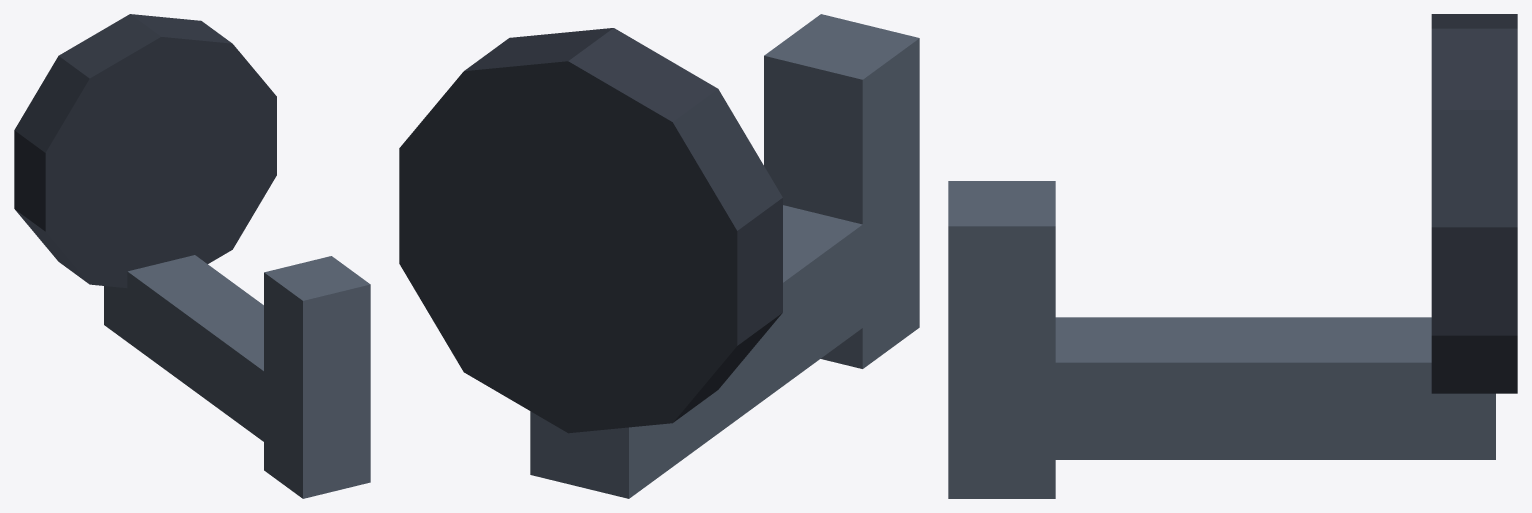
The model's file is rail_bracket.glb.
3 views of the same model, side by side, from view 1: azimuth 30°, elevation 25°; view 2: azimuth 150°, elevation 25°; view 3: azimuth 270°, elevation 25° (orthographic). The views are drawn at different scales.
Visible parts, largest first — view 1: rail_bracket; view 2: rail_bracket; view 3: rail_bracket.
Part boxes in pixels (left/top/right/bottom): rail_bracket: left=14, top=14, right=370, bottom=498; rail_bracket: left=399, top=14, right=919, bottom=498; rail_bracket: left=948, top=14, right=1517, bottom=498.
Size of the model in its own units: 0.0856 by 0.115 by 0.1325.
Materials: 1 (1 with a texture image).
